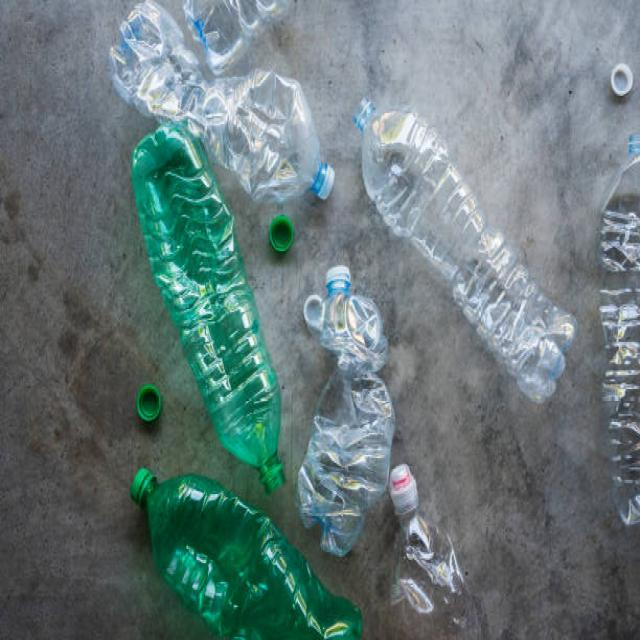plastic: (146, 122, 352, 552), (358, 99, 564, 414)
